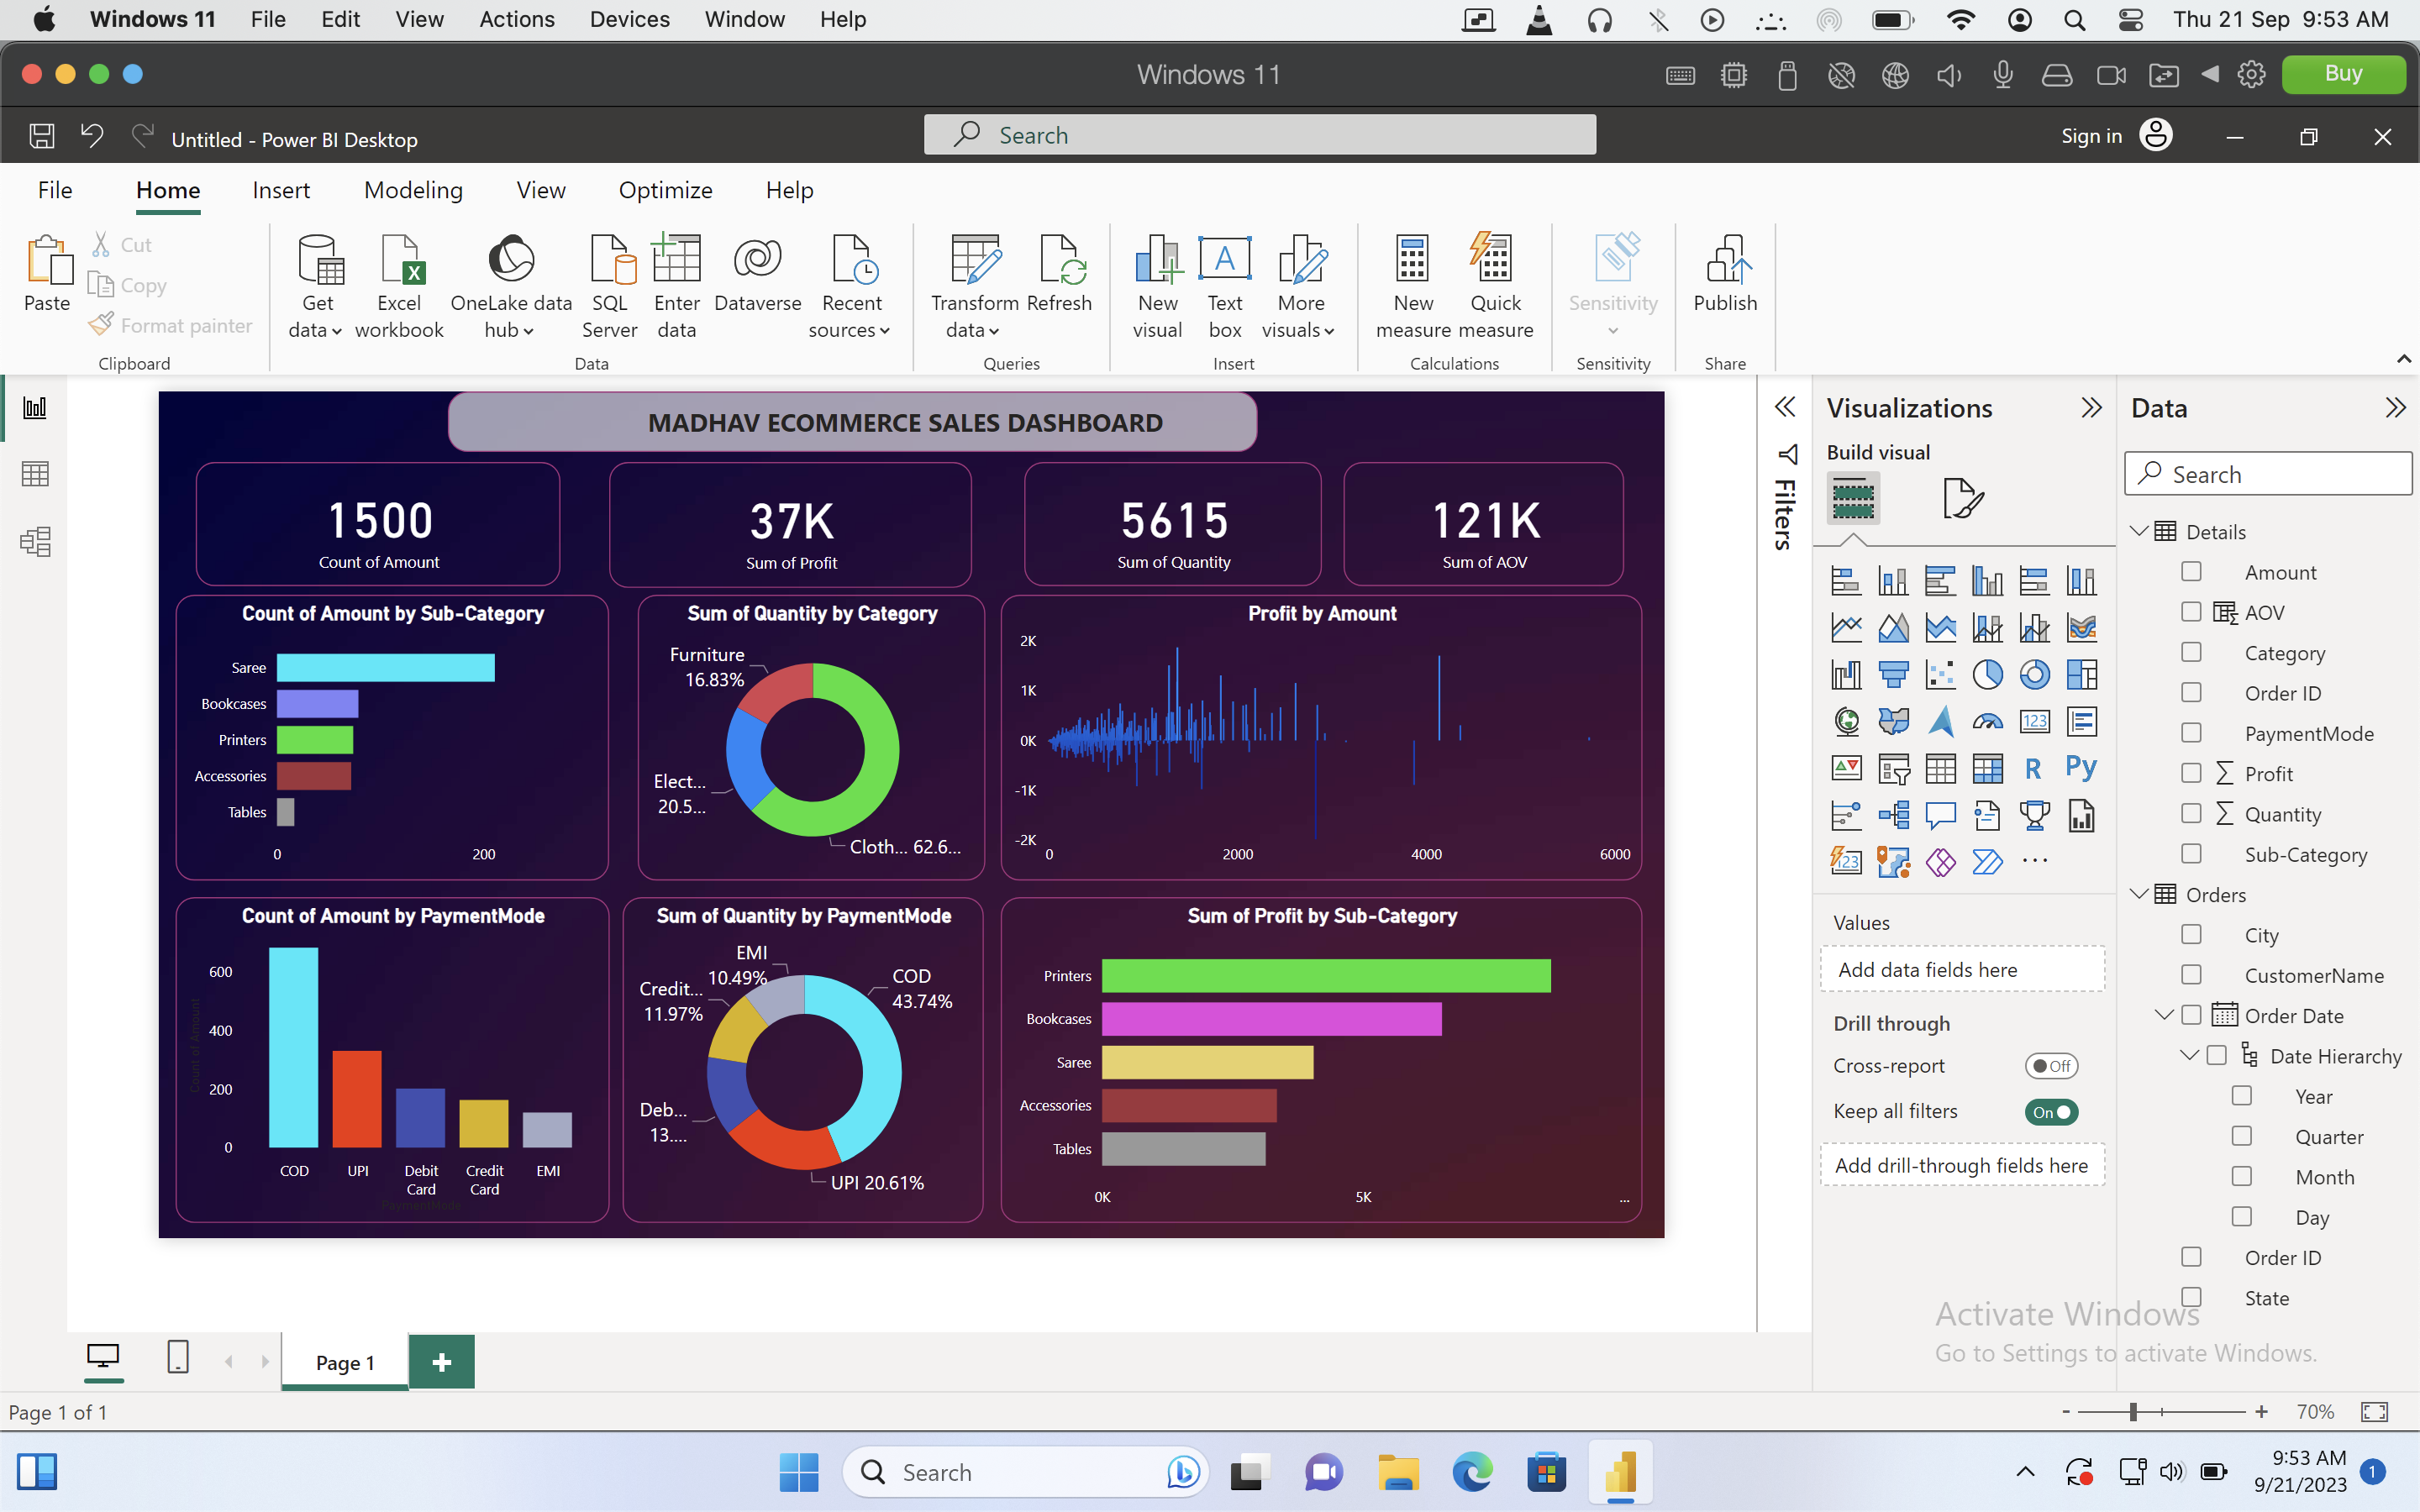

The page's visual inventory and layout, read from the dashboard file:
{"tool":"powerbi","page":{"name":"Page 1","canvas":[1280,720],"ordinal":0},"visuals":[{"type":"textbox","box":[245.7,0,688.6,51.4],"z":0},{"type":"columnChart","title":"Profit by Amount","fields":{"Category":["Details.Amount"],"Y":["Details.Profit"]},"box":[715.7,172.9,545.7,242.9],"z":1000},{"type":"barChart","fields":{"Category":["Details.Sub-Category"],"Y":["Details.Profit"]},"box":[715.7,430,545.7,277.1],"z":1001},{"type":"donutChart","fields":{"Category":["Details.Category"],"Y":["Details.Quantity"]},"box":[407.1,172.9,295.7,242.9],"z":1002},{"type":"donutChart","fields":{"Category":["Details.PaymentMode"],"Y":["Details.Quantity"]},"box":[394.3,430,307.1,277.1],"z":1003},{"type":"card","fields":{"Values":["Details.Profit"]},"box":[382.9,60,308.6,107.1],"z":1004},{"type":"card","fields":{"Values":["Details.Amount"]},"box":[31.4,60,310,105.7],"z":1005},{"type":"card","fields":{"Values":["Details.Quantity"]},"box":[735.7,60,252.9,105.7],"z":1006},{"type":"card","fields":{"Values":["Details.AOV"]},"box":[1007.1,60,238.6,105.7],"z":1007},{"type":"barChart","fields":{"Y":["Details.Amount"],"Category":["Details.Sub-Category"]},"box":[14.3,172.9,368.6,242.9],"z":1008},{"type":"columnChart","fields":{"Y":["Details.Amount"],"Category":["Details.PaymentMode"]},"box":[14,430,369,277],"z":1009}]}

Visuals, with their boxes on the page's 1280x720 design canvas (x1, y1, x2, y2). These are canvas units, not pixel positions in the 2420x1512 screenshot, which may show the page scaled, cropped or inside an application window:
textbox: box=[246, 0, 934, 51]
"Profit by Amount" columnChart: box=[716, 173, 1261, 416]
barChart - Details.Sub-Category x Details.Profit: box=[716, 430, 1261, 707]
donutChart - Details.Category x Details.Quantity: box=[407, 173, 703, 416]
donutChart - Details.PaymentMode x Details.Quantity: box=[394, 430, 701, 707]
card - Details.Profit: box=[383, 60, 692, 167]
card - Details.Amount: box=[31, 60, 341, 166]
card - Details.Quantity: box=[736, 60, 989, 166]
card - Details.AOV: box=[1007, 60, 1246, 166]
barChart - Details.Amount x Details.Sub-Category: box=[14, 173, 383, 416]
columnChart - Details.Amount x Details.PaymentMode: box=[14, 430, 383, 707]
